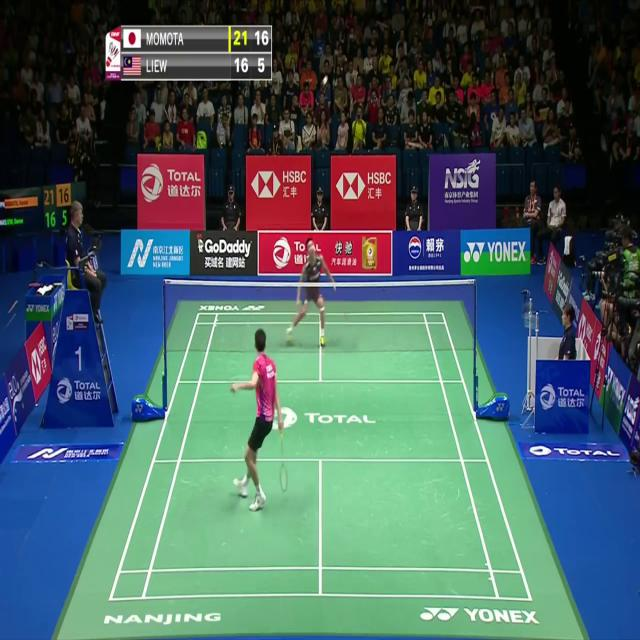Shuttlecock: (322, 73, 328, 85)
